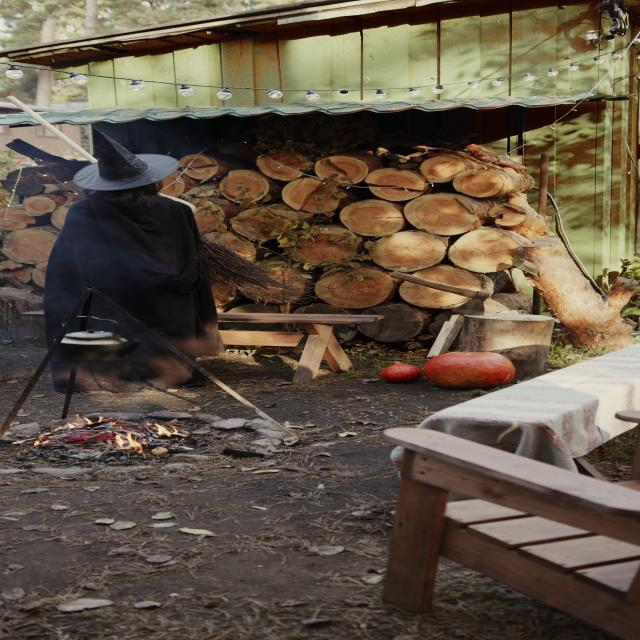Fire: (64, 410, 186, 457)
